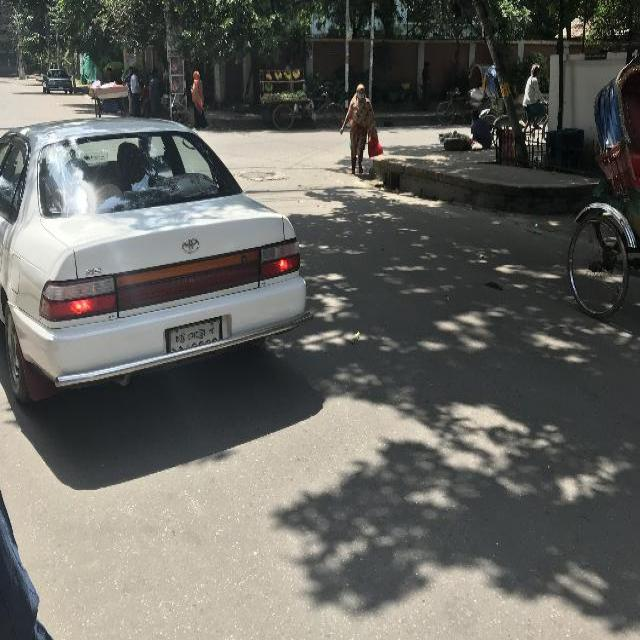car: (6, 123, 318, 401), (42, 67, 74, 93)
rickshaw: (567, 56, 639, 318), (480, 65, 550, 148), (431, 60, 491, 143)
